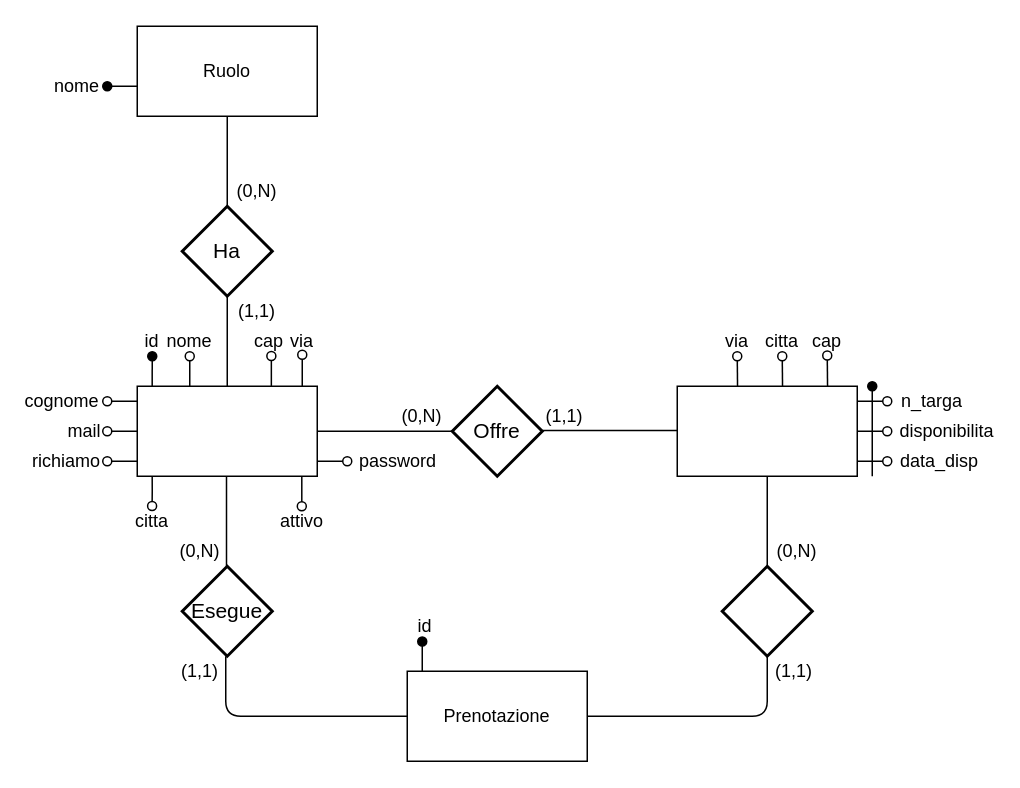
This 1020x788 diagram has some shape labels left out. The centre of each missing label's shape, as x and y in pixels:
"Per" goes at (766,610).
"Posteggio" goes at (766,430).
"Utente" goes at (226,430).
